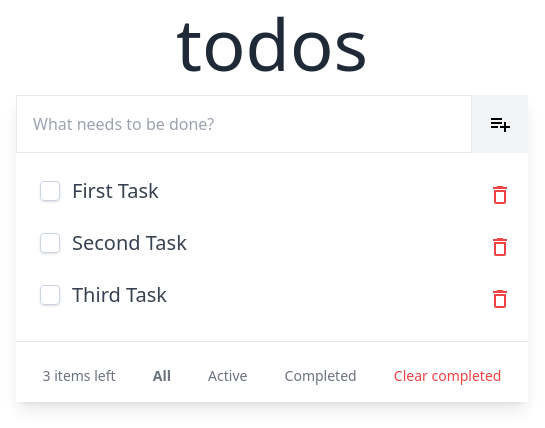
Test: TodoItem › should render delete todo
Expected: the heading "3 items left" is shown, [43,366,116,386]
Click the button with test id "delete-2". click: (500, 246)
box: [488,234,512,259]
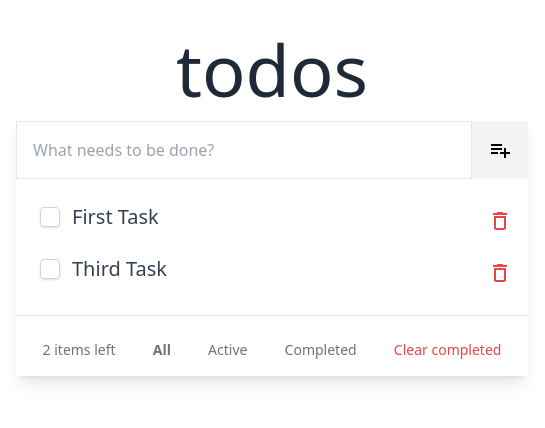
Expected: the text "First Task" is shown, [72,202,159,230]
Expected: the heading "2 items left" is shown, [43,340,116,360]
